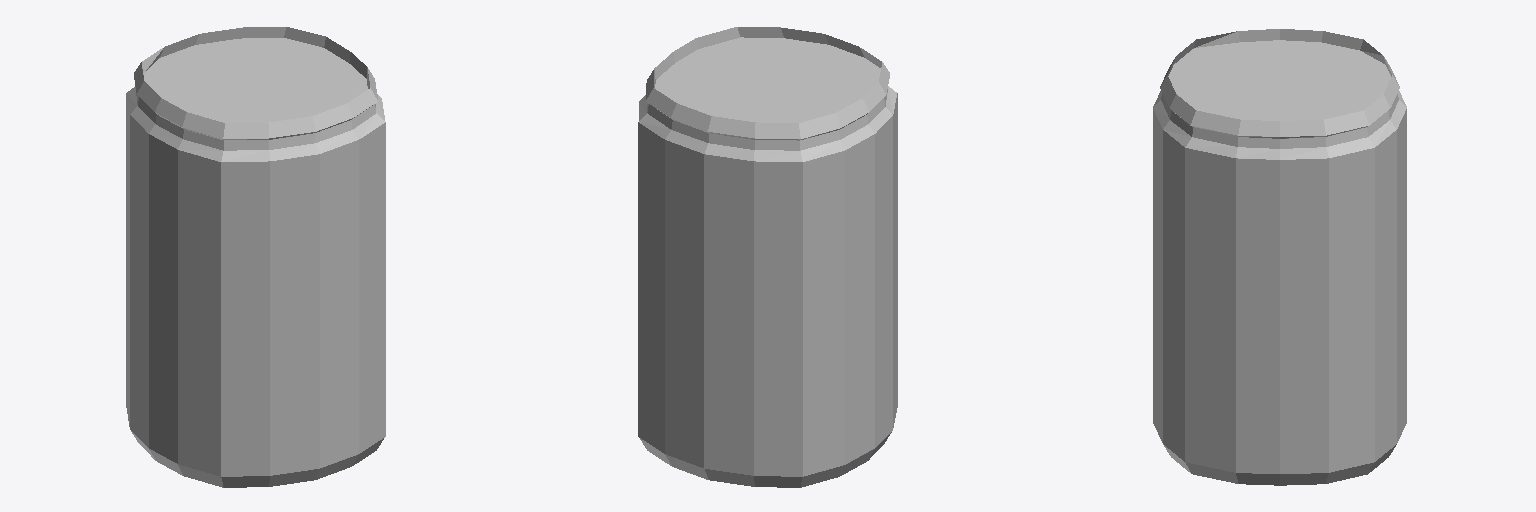
File: soda.obj
The picture shows the model from 3 angles: view 1: azimuth 30°, elevation 25°; view 2: azimuth 150°, elevation 25°; view 3: azimuth 270°, elevation 25°; orthographic projection.
Visible parts, largest first — view 1: pCube1; view 2: pCube1; view 3: pCube1.
Boxes of the visible parts, <box> form: pCube1: <box>126,27,385,487</box>; pCube1: <box>638,27,897,487</box>; pCube1: <box>1153,29,1406,485</box>.
Bounding box in the file's own units: 0.8857 × 1.43 × 0.9103.